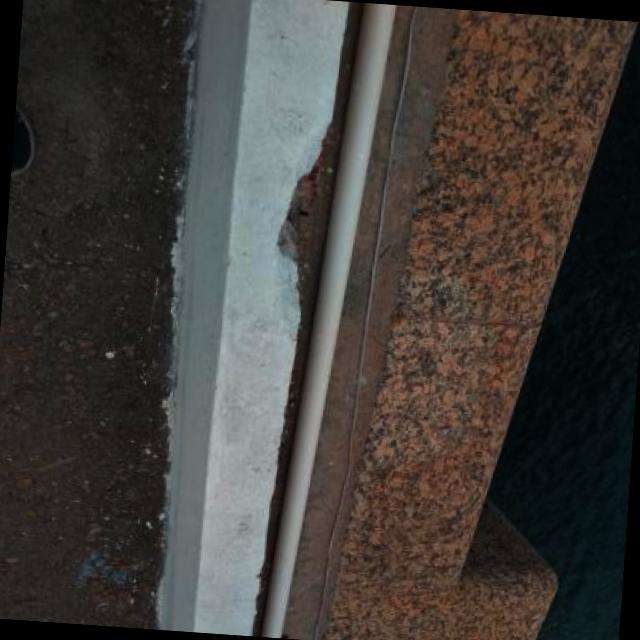gas: (259, 2, 398, 638)
